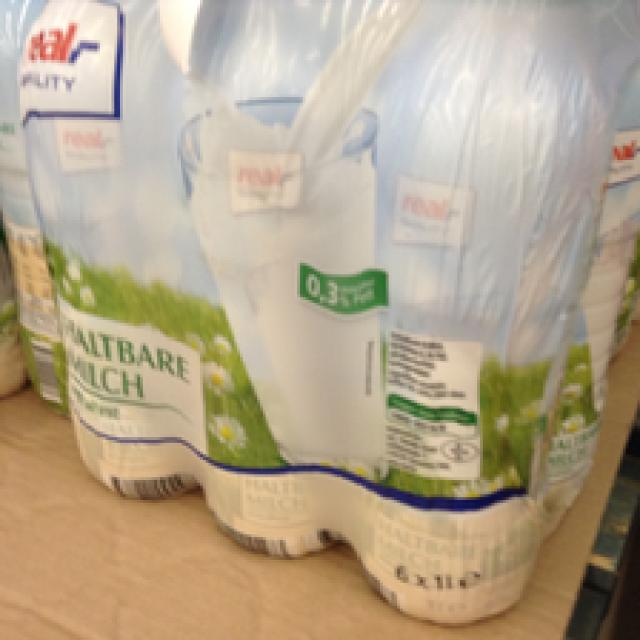groceries: (363, 0, 571, 623), (194, 0, 359, 554), (20, 11, 197, 506)
